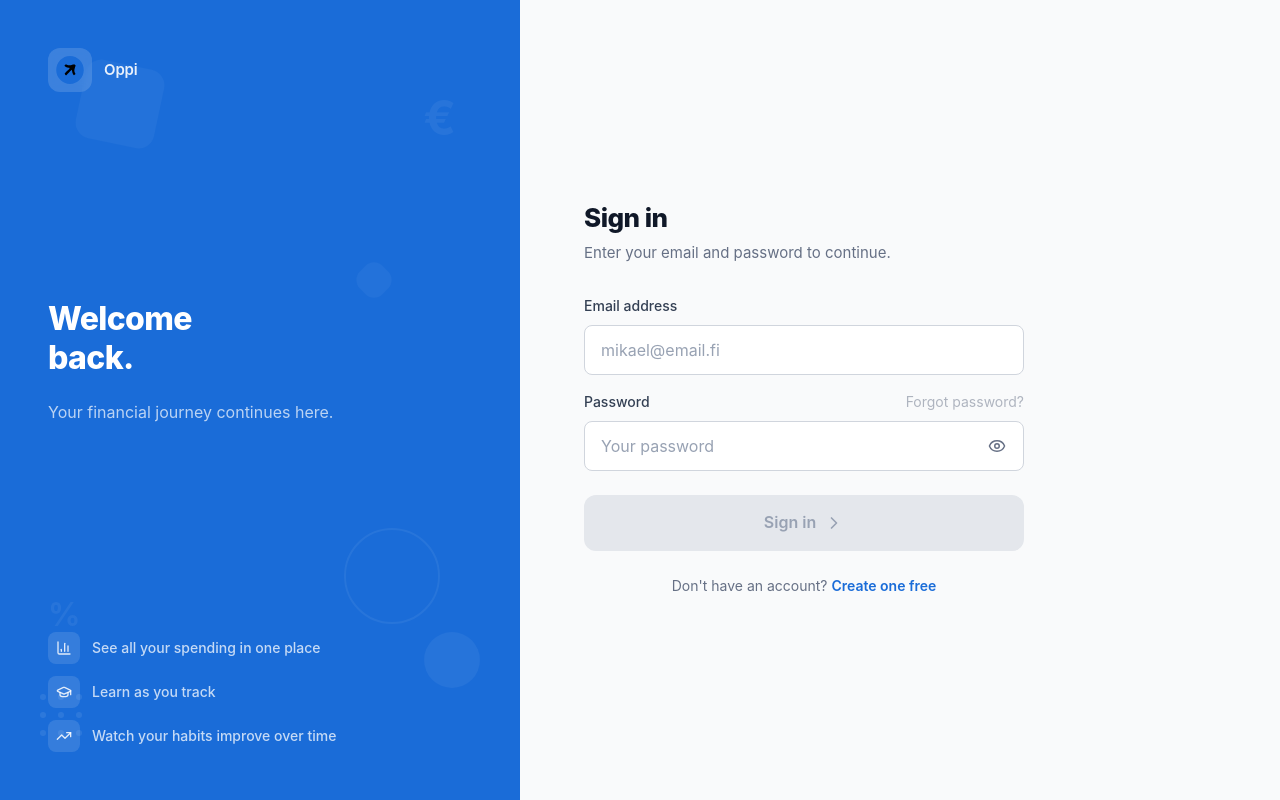
it: LoginPage — loading / disabled state › disables the submit button while the request is in flight
In the field labelled "Email address": x=804, y=350 [585,326,1023,374], type "user@example.fi"
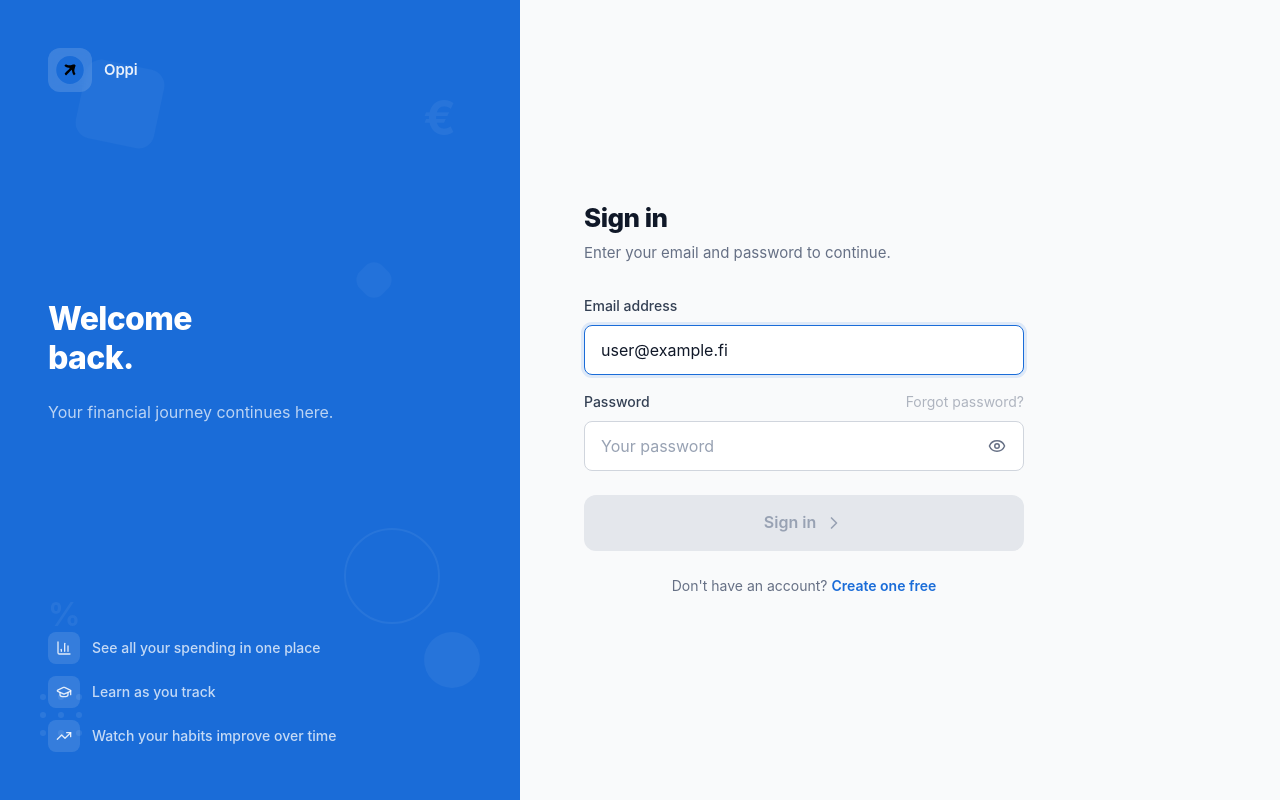
In the password field labelled "Password": x=780, y=446 [585,422,975,470], type "password123"
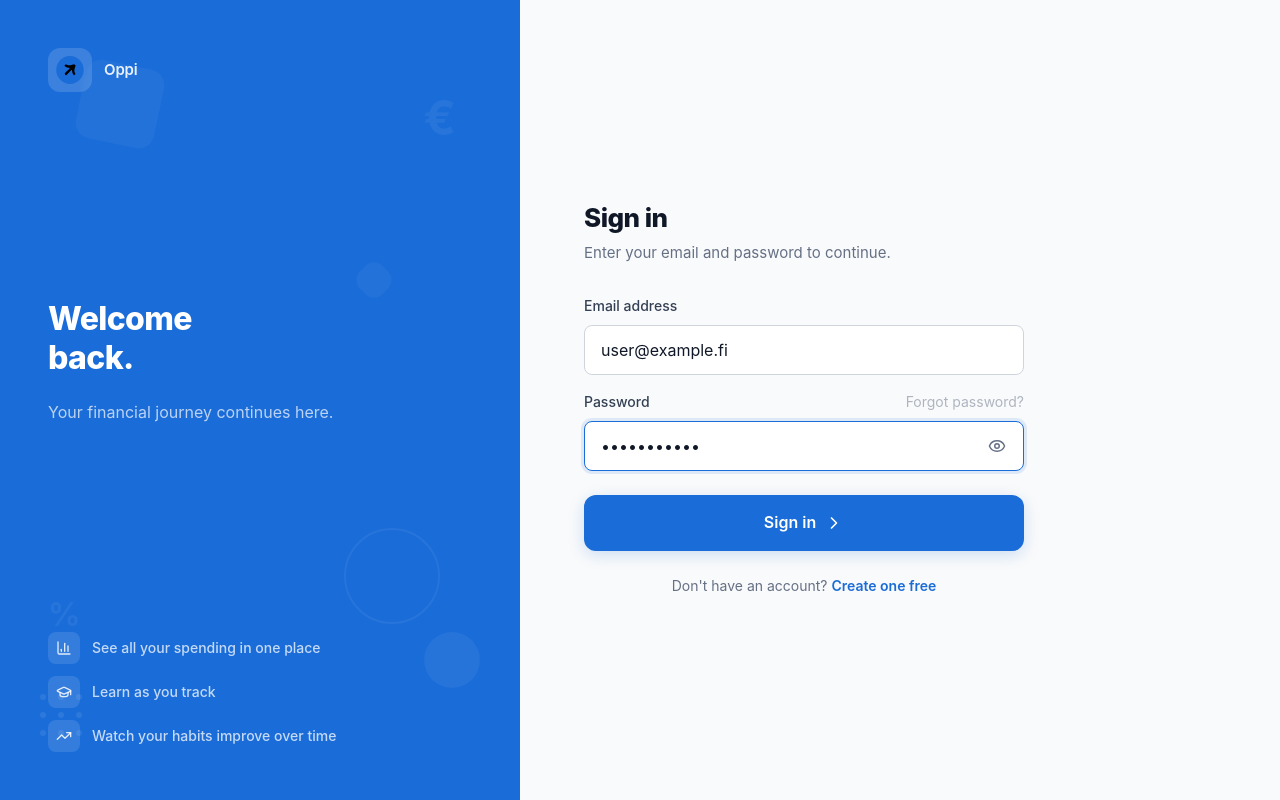
Click the button "Sign in": x=804, y=523 [584,495,1024,551]
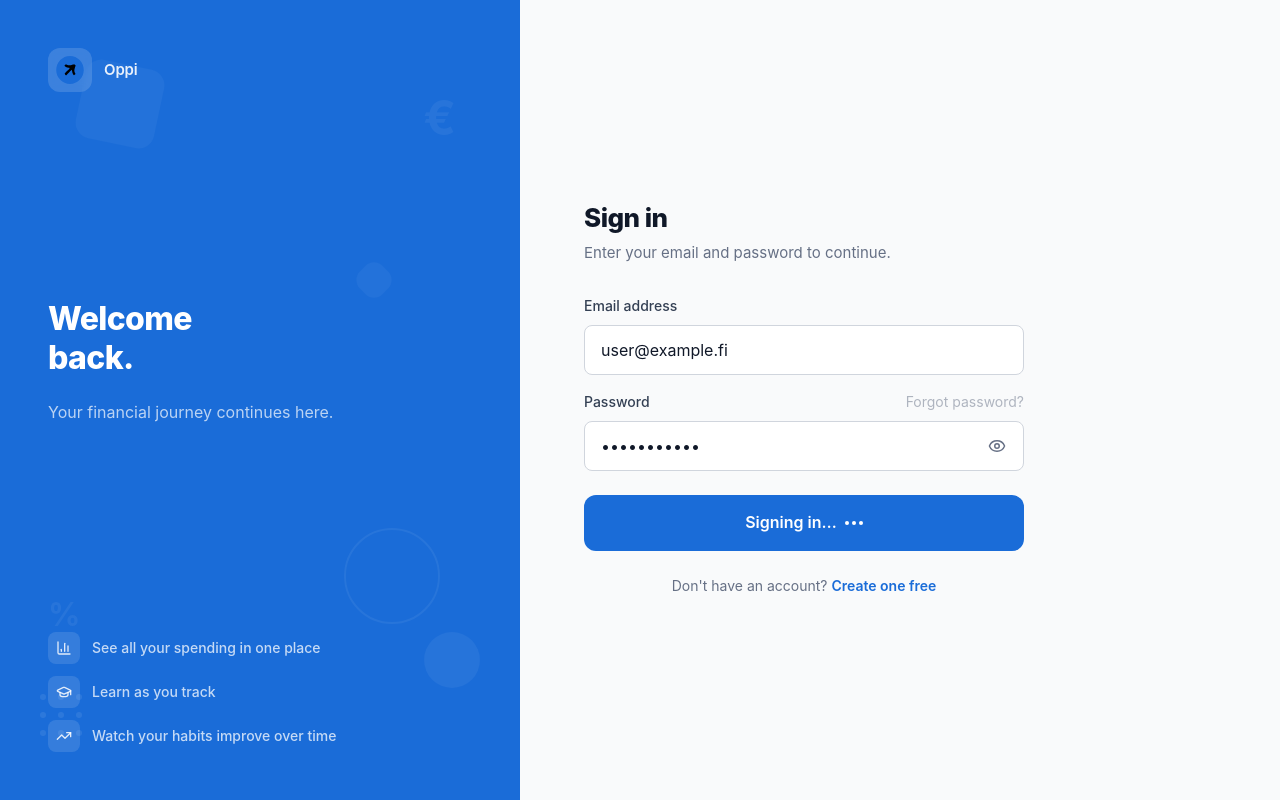
Expected: the button "Signing in…" is disabled, [584,495,1024,551]
